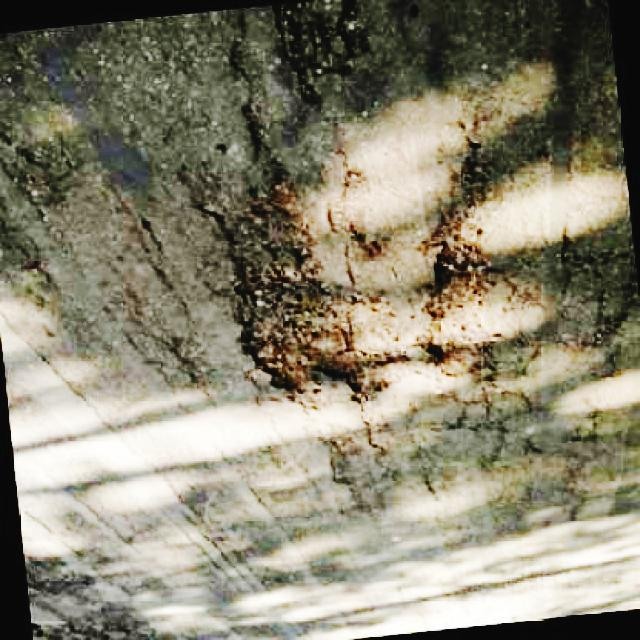pothole: (198, 166, 502, 408), (271, 0, 375, 102)
